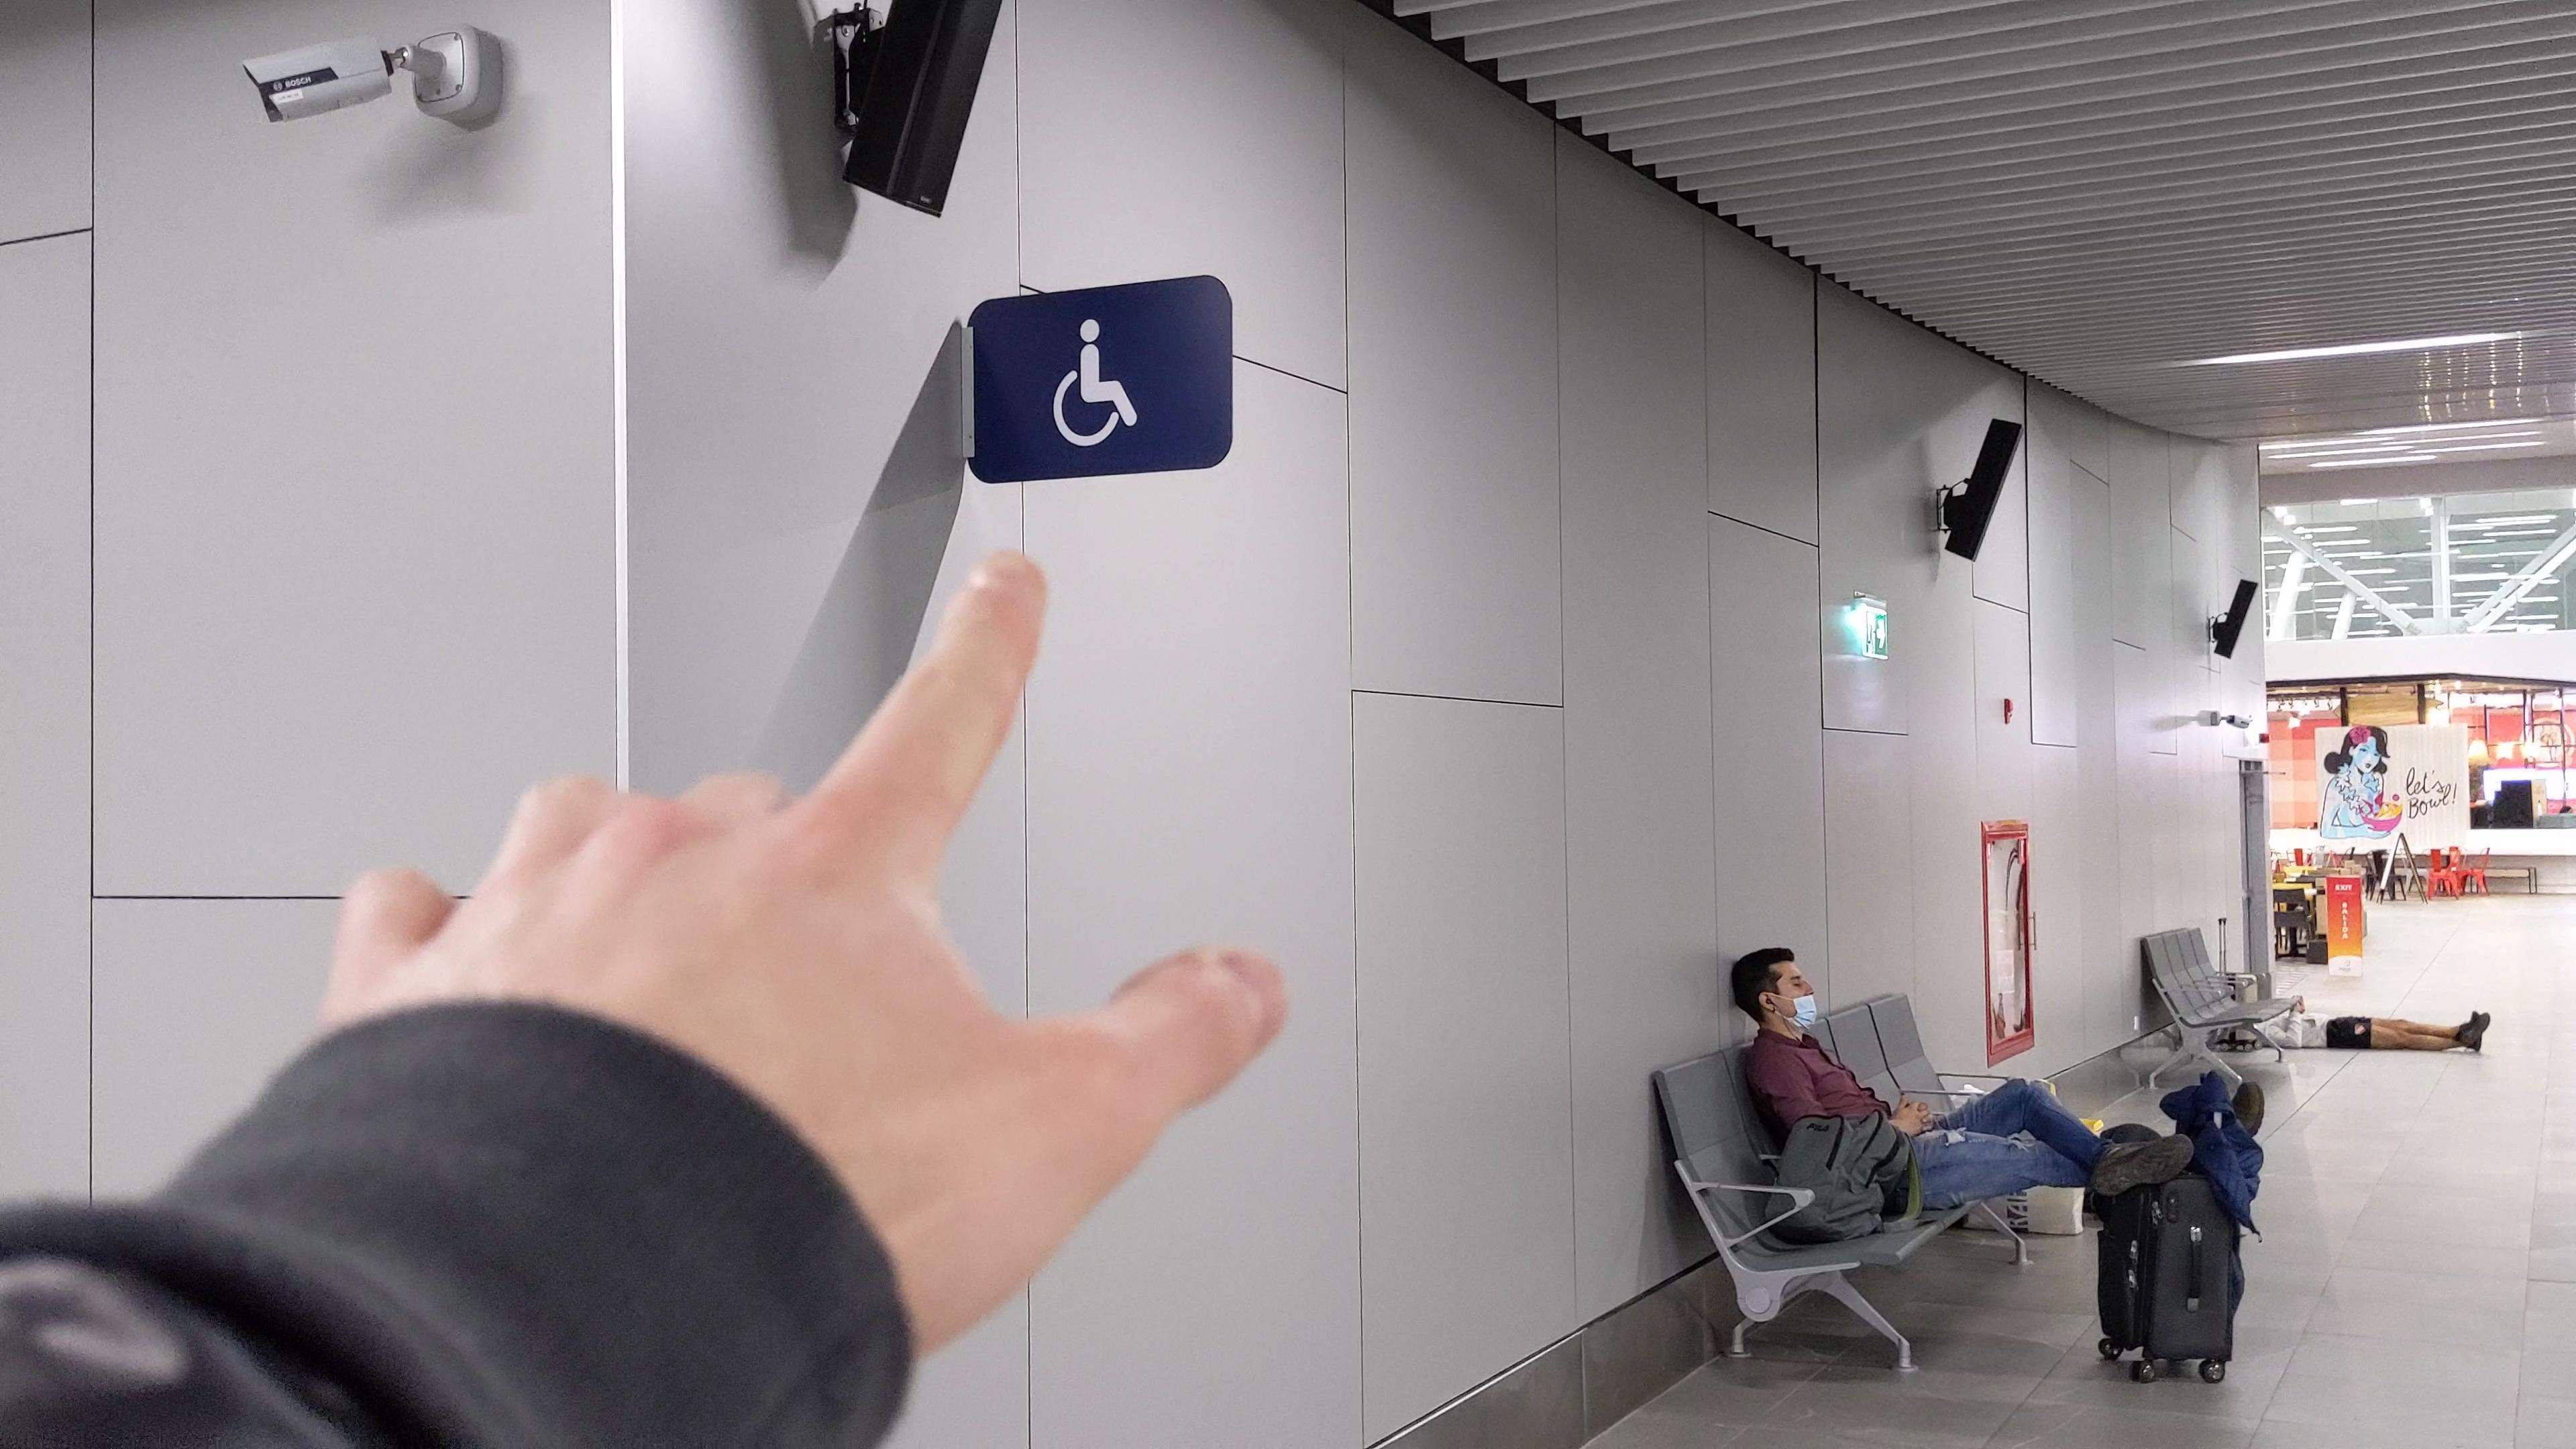emergency right arrow: (1875, 617, 1888, 656)
handicapped symbol: (1049, 317, 1141, 451)
